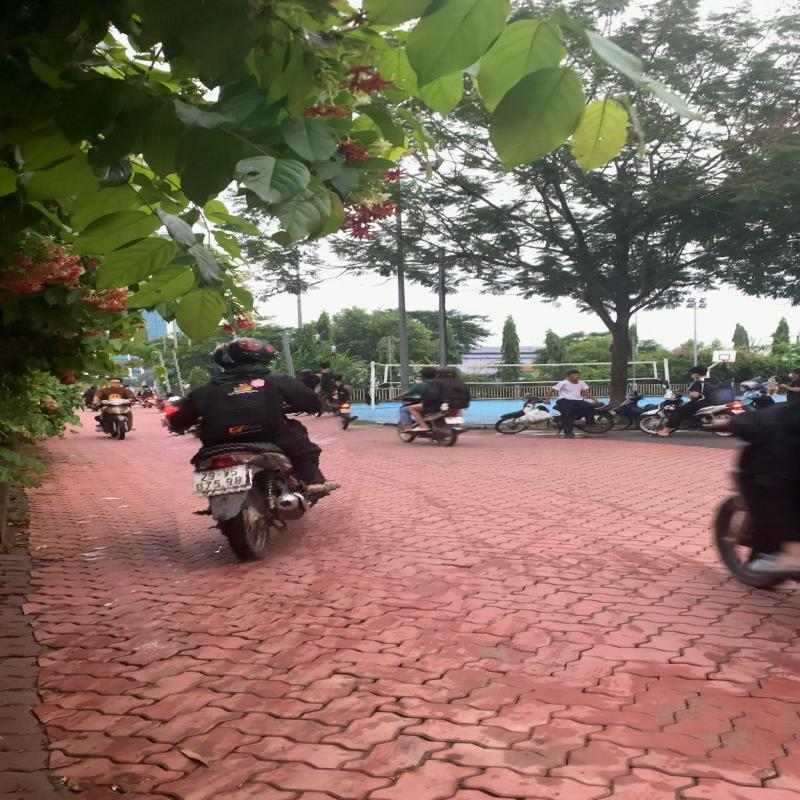helmet: (224, 336, 282, 368)
licenseplate: (190, 464, 251, 493)
motorcyclist: (158, 330, 353, 568)
